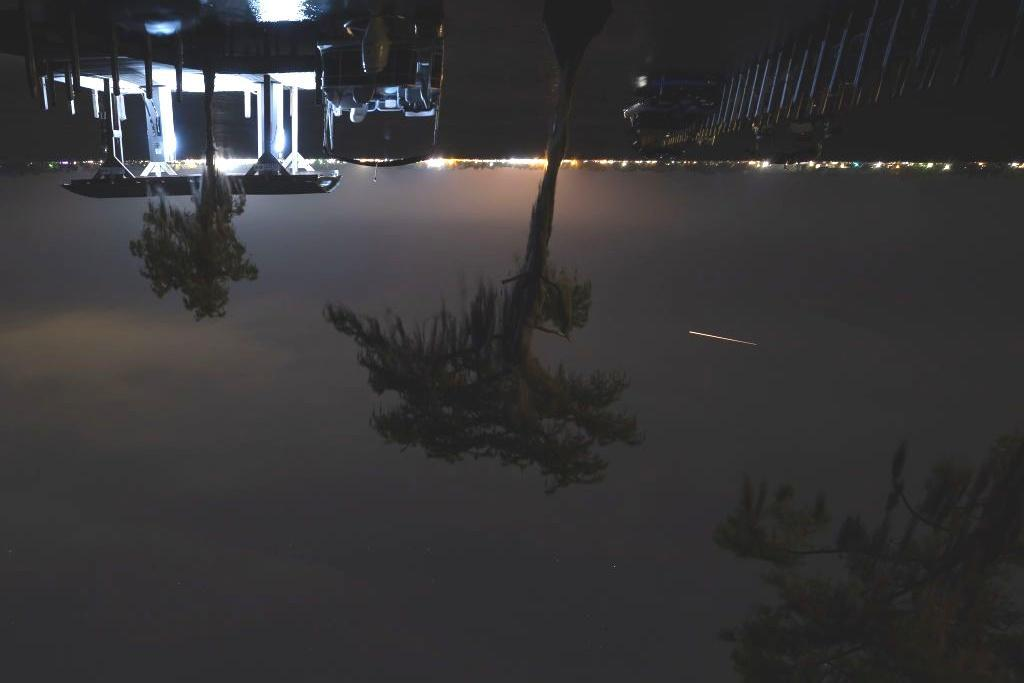meteorite: (665, 318, 781, 354)
